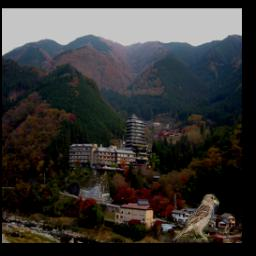Sparrow: (173, 195, 218, 243)
